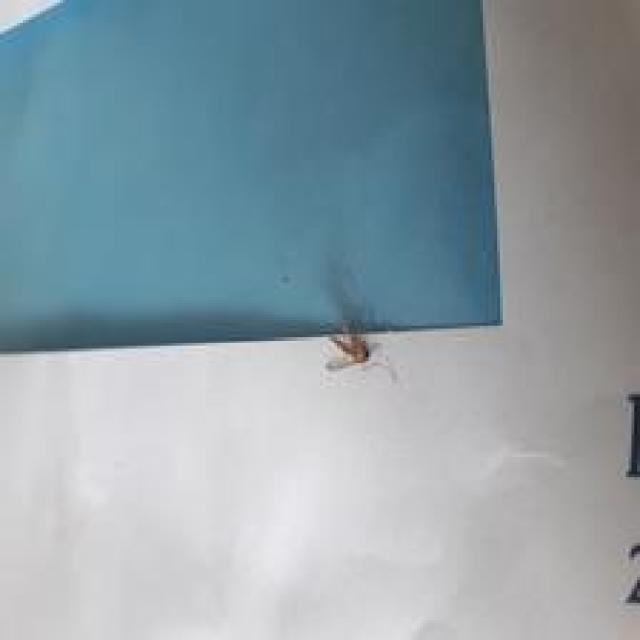Culex: (320, 320, 397, 386)
